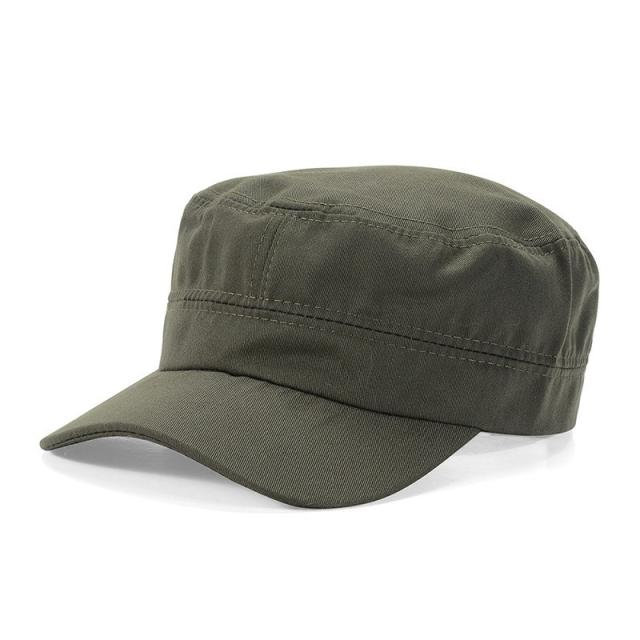Nonhelmet: (38, 160, 602, 510)
